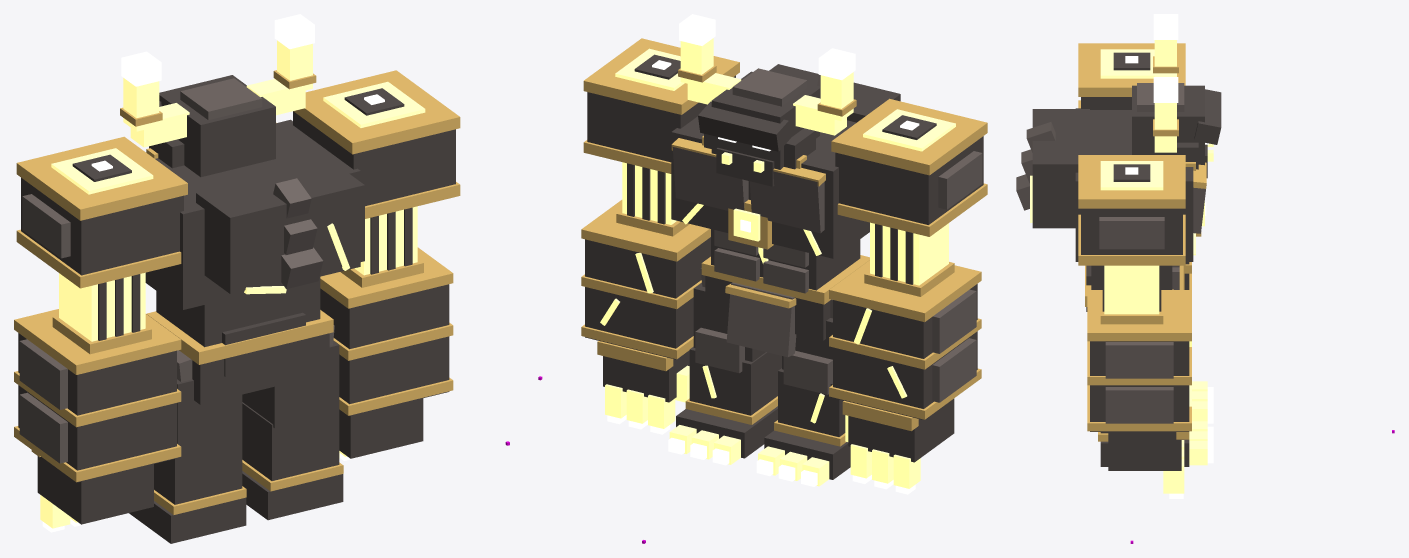
File: golem.fbx
3 renders of one model, left to right at view 1: azimuth 30°, elevation 25°; view 2: azimuth 150°, elevation 25°; view 3: azimuth 270°, elevation 25°, orthographic. The views are drawn at different scales.
Parts seen in each view (by area): view 1: Rock_Chest, Rock_ForearmR, Rock_ForearmL, Trim_UpperArmL, Rock_UpperArmL, Rock_UpperArmR, Trim_UpperArmR, Trim_ForearmL, Rock_Spine, Rock_Head, Trim_ForearmR, Rock_ShinR (+22 smaller); view 2: Rock_ForearmR, Trim_UpperArmL, Rock_UpperArmL, Rock_ForearmL, Rock_Chest, Rock_Head, Trim_ForearmL, Rock_UpperArmR, Plate_Chest, Trim_ForearmR, Trim_UpperArmR, Magma_Head (+34 smaller); view 3: Rock_Chest, Trim_UpperArmR, Trim_ForearmR, Plate_ForearmR, Magma_UpperArmR, Rock_Head, Rock_UpperArmR, Rock_HandR, Trim_UpperArmL, Rock_ForearmR, Plate_UpperArmR, Magma_Head (+10 smaller).
Part boxes in pixels (x1,y1,x2,y2): Rock_Chest: (145, 119, 364, 309); Rock_ForearmR: (320, 284, 449, 416); Rock_ForearmL: (18, 333, 176, 482); Trim_UpperArmL: (16, 136, 187, 354); Rock_UpperArmL: (21, 154, 183, 340); Rock_UpperArmR: (293, 88, 455, 274); Trim_UpperArmR: (293, 70, 460, 287); Trim_ForearmL: (14, 309, 181, 482); Rock_Spine: (156, 277, 320, 376); Rock_Head: (149, 75, 275, 177); Trim_ForearmR: (320, 247, 453, 415); Rock_ShinR: (242, 402, 339, 480); Rock_ForearmR: (585, 237, 710, 359); Trim_UpperArmL: (831, 98, 987, 296); Rock_UpperArmL: (835, 115, 983, 284); Rock_ForearmL: (833, 284, 977, 419); Rock_Chest: (671, 64, 900, 258); Rock_Head: (698, 71, 819, 186); Trim_ForearmL: (829, 260, 981, 419); Rock_UpperArmR: (587, 54, 735, 224); Plate_Chest: (672, 75, 824, 233); Trim_ForearmR: (581, 200, 710, 359); Trim_UpperArmR: (583, 38, 739, 236); Magma_Head: (680, 38, 853, 172); Rock_Chest: (1032, 108, 1193, 261); Trim_UpperArmR: (1078, 155, 1185, 324); Trim_ForearmR: (1087, 290, 1191, 431); Plate_ForearmR: (1105, 342, 1173, 423); Magma_UpperArmR: (1100, 161, 1163, 314); Rock_Head: (1132, 85, 1221, 178); Rock_UpperArmR: (1081, 164, 1182, 311); Rock_HandR: (1108, 432, 1181, 470); Trim_UpperArmL: (1078, 43, 1185, 108); Rock_ForearmR: (1090, 341, 1189, 431); Plate_UpperArmR: (1099, 217, 1164, 249); Magma_Head: (1154, 40, 1213, 161).
Bounding box in the file's own units: 34.7 × 32.25 × 28.95.
